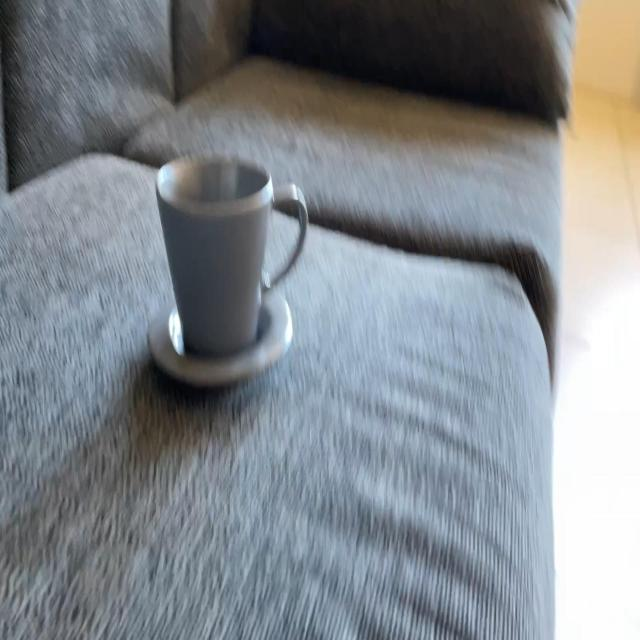cup: (147, 160, 309, 386)
